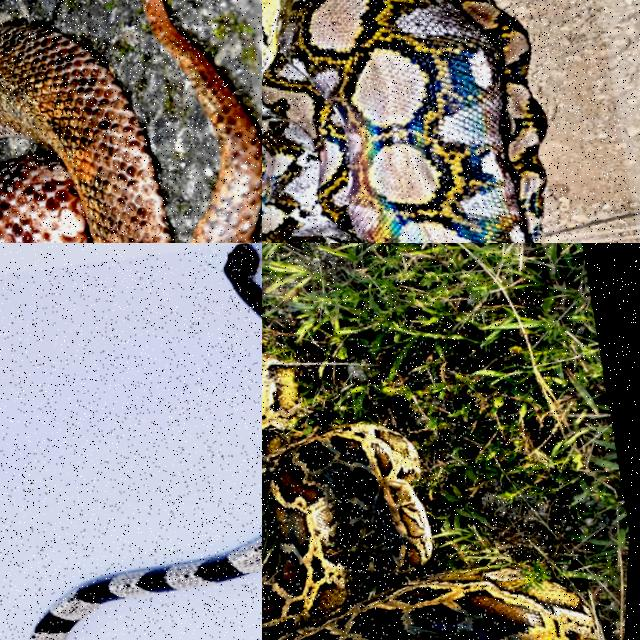Bungarus candidus: (30, 538, 261, 639)
Malayopython reticulatus: (262, 0, 549, 242)
Ovophis monticola: (0, 24, 171, 242)
Python bivittatus: (262, 354, 597, 639)
